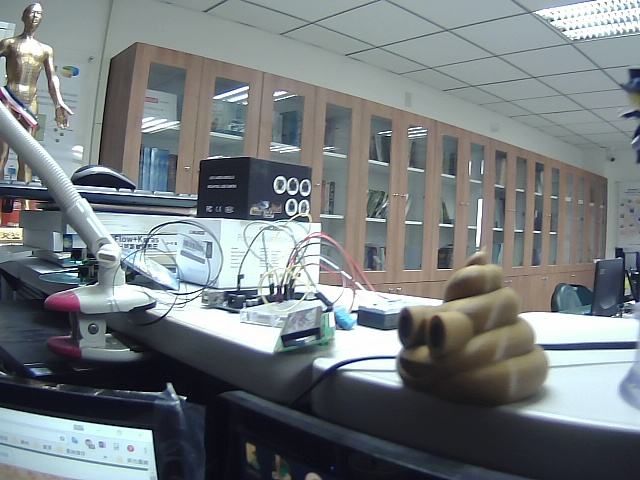shit: (383, 245, 552, 412)
